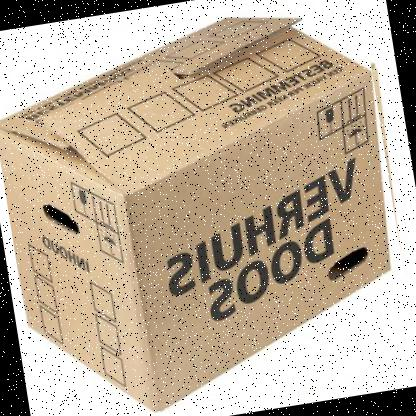box: (1, 16, 391, 411)
normal_hole: (328, 246, 369, 282), (42, 204, 81, 235)
